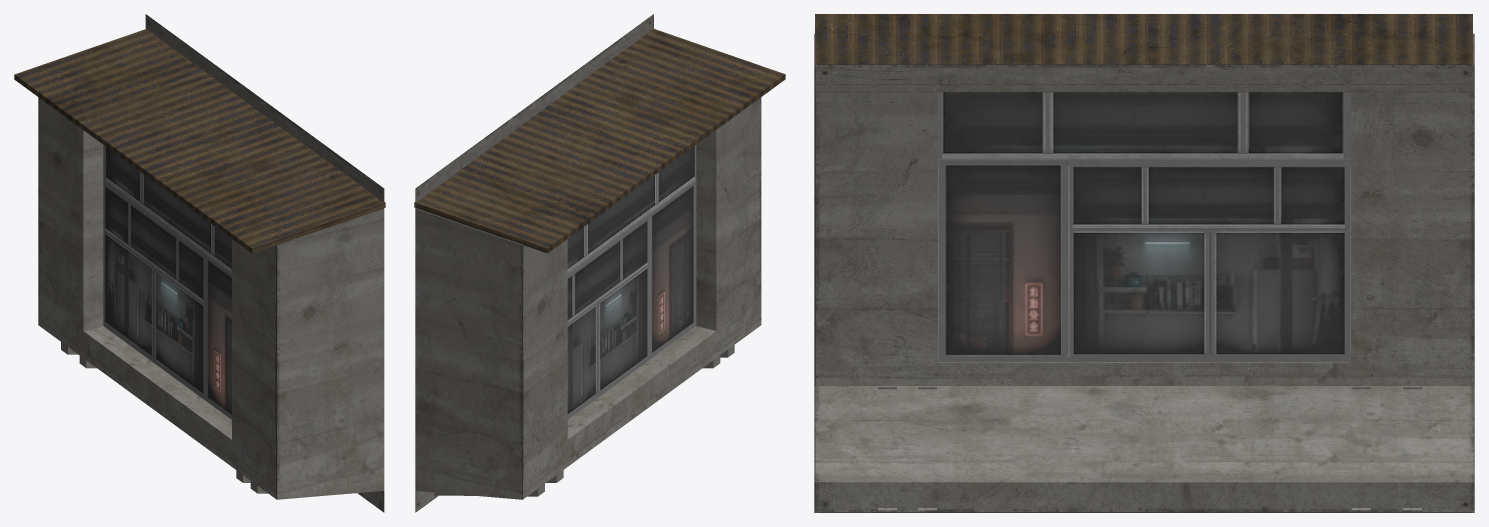
The model's file is CP_Windows_B_4x3m_06.fbx.
3 views of the same model, side by side, from view 1: azimuth 30°, elevation 25°; view 2: azimuth 150°, elevation 25°; view 3: azimuth 270°, elevation 25° (orthographic). The views are drawn at different scales.
Parts seen in each view (by area): view 1: CP_Windows_B_4x3m_06; view 2: CP_Windows_B_4x3m_06; view 3: CP_Windows_B_4x3m_06.
Boxes of the visible parts, left/top/right/bottom form: CP_Windows_B_4x3m_06: left=14, top=14, right=385, bottom=512; CP_Windows_B_4x3m_06: left=414, top=14, right=785, bottom=512; CP_Windows_B_4x3m_06: left=814, top=14, right=1474, bottom=512.
Size of the model in its own units: 130 by 300 by 400.
